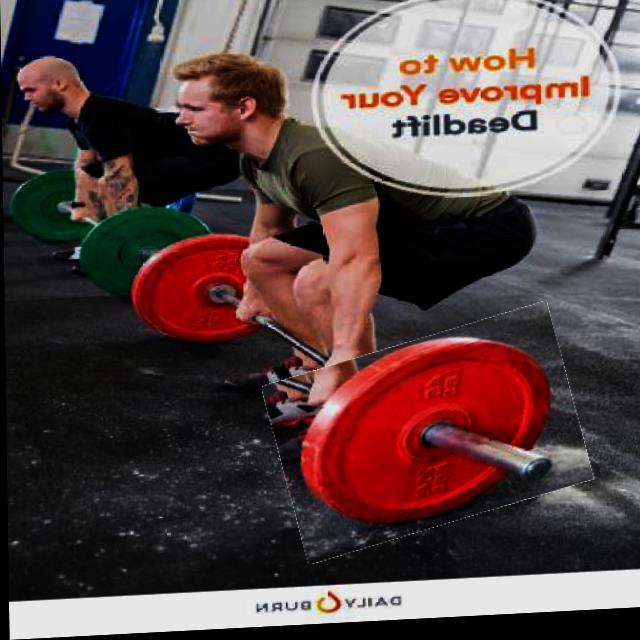barbell: (270, 323, 586, 554)
